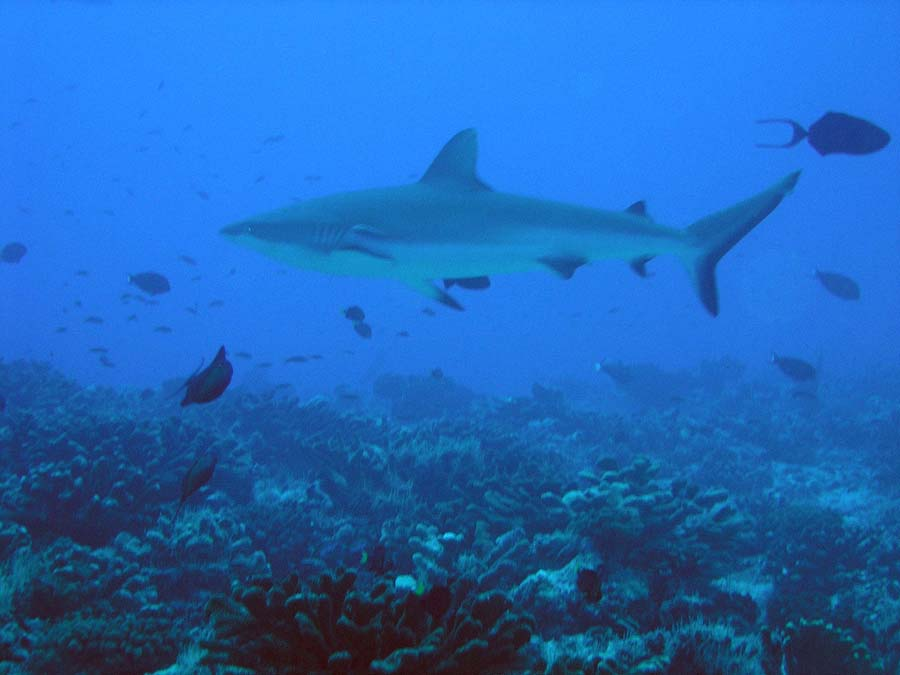Carcharhinus_amblyrhynchos: (196, 120, 801, 327)
